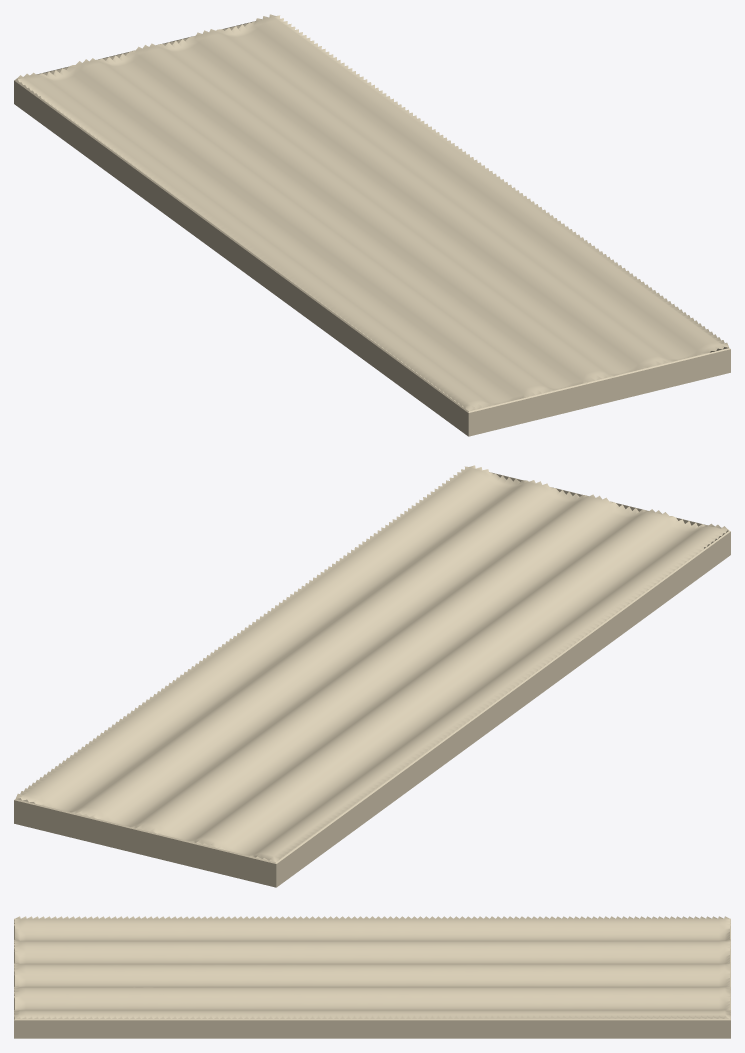
File: mahsulot.glb
The picture shows the model from 3 angles, top to bottom: view 1: azimuth 30°, elevation 25°; view 2: azimuth 150°, elevation 25°; view 3: azimuth 270°, elevation 25°; orthographic projection. The views are drawn at different scales.
Visible parts, largest first — view 1: mahsulot; view 2: mahsulot; view 3: mahsulot.
Boxes of the visible parts, x1=… form: mahsulot: x1=14, y1=14, x2=730, y2=436; mahsulot: x1=14, y1=465, x2=730, y2=887; mahsulot: x1=14, y1=916, x2=730, y2=1038.
Bounding box in the file's own units: 0.4 × 0.0399 × 1.2.
